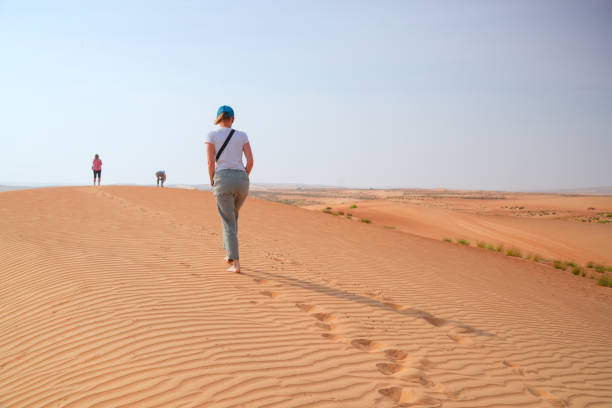human_footprint: (294, 301, 457, 405), (294, 302, 457, 405), (295, 302, 450, 403), (296, 303, 452, 397), (365, 290, 479, 346), (350, 338, 442, 405), (295, 302, 384, 351), (377, 349, 462, 400), (366, 292, 449, 327), (376, 349, 442, 390), (419, 313, 481, 346), (295, 302, 346, 342), (421, 315, 481, 346), (378, 386, 439, 406), (311, 311, 346, 342), (398, 367, 441, 390), (526, 386, 568, 407), (311, 312, 338, 331), (264, 251, 299, 264), (311, 312, 335, 330), (351, 338, 384, 351), (419, 313, 448, 327), (502, 360, 526, 375), (448, 332, 473, 345), (253, 277, 282, 287), (376, 363, 402, 374), (384, 349, 408, 360), (224, 256, 240, 272), (321, 333, 345, 342), (295, 302, 315, 312), (384, 302, 406, 311), (312, 312, 333, 321), (316, 322, 333, 331), (260, 290, 278, 298), (365, 291, 383, 299), (227, 261, 240, 272), (226, 265, 240, 272), (253, 278, 269, 284), (321, 278, 337, 284), (224, 256, 233, 264), (179, 261, 190, 267), (249, 300, 261, 304), (191, 272, 200, 277)
